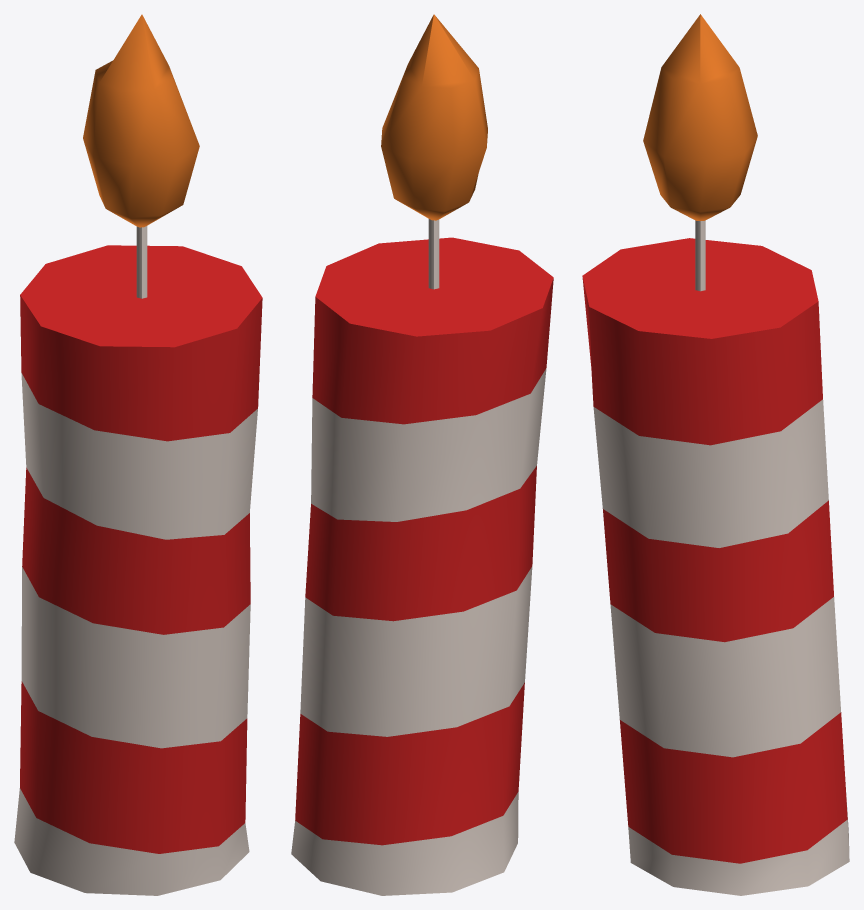
Rendered from Light_1_231109.glb.
3 views of the same model, side by side, from view 1: azimuth 30°, elevation 25°; view 2: azimuth 150°, elevation 25°; view 3: azimuth 270°, elevation 25° (orthographic). The views are drawn at different scales.
Visible parts, largest first — view 1: Light_1; view 2: Light_1; view 3: Light_1.
Part boxes in pixels (x1,y1,x2,y2): Light_1: [14, 14, 262, 895]; Light_1: [291, 14, 553, 895]; Light_1: [582, 14, 849, 895].
Size of the model in its own units: 0.3414 by 1.27 by 0.37.
Materials: 1 (1 with a texture image).
